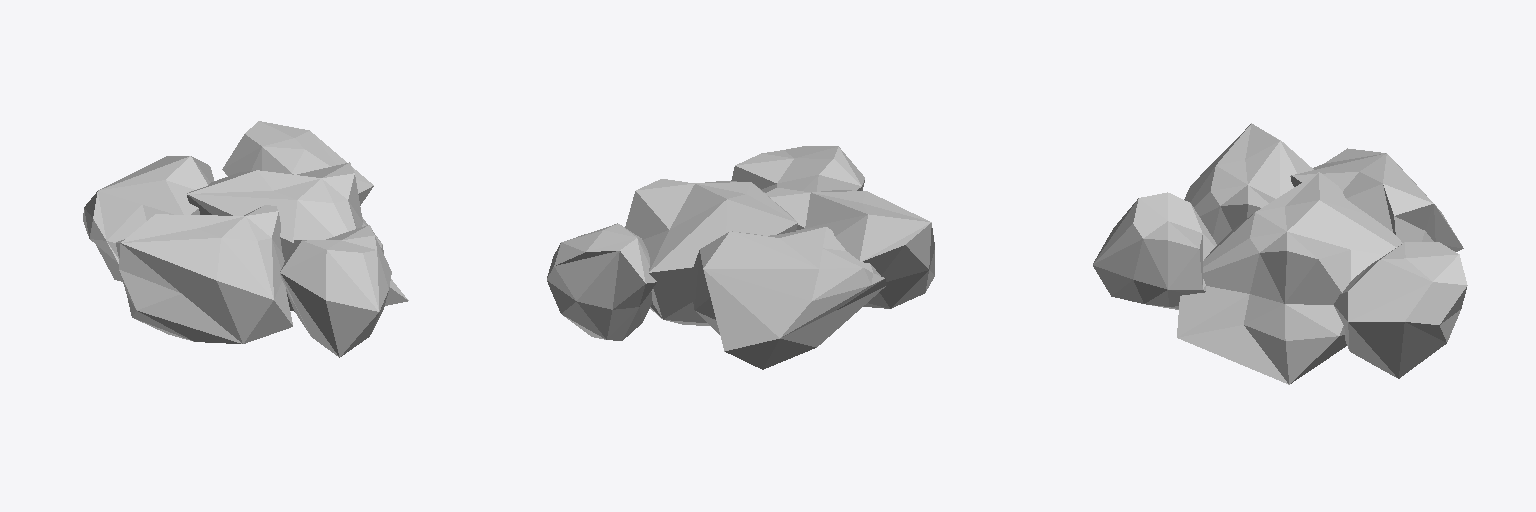
Rendered from cloud.obj.
3 views of the same model, side by side, from view 1: azimuth 30°, elevation 25°; view 2: azimuth 150°, elevation 25°; view 3: azimuth 270°, elevation 25° (orthographic).
Visible parts, largest first — view 1: Cube.001_Cube.002, Cube_Cube.001, Cube.002_Cube.003, Cube.004_Cube.005, Cube.003_Cube.004; view 2: Cube.004_Cube.005, Cube.002_Cube.003, Cube.001_Cube.002, Cube.003_Cube.004, Cube_Cube.001; view 3: Cube.002_Cube.003, Cube.003_Cube.004, Cube_Cube.001, Cube.001_Cube.002, Cube.004_Cube.005.
Boxes of the visible parts, x1=… form: Cube.001_Cube.002: x1=116, y1=205, x2=292, y2=343; Cube_Cube.001: x1=280, y1=225, x2=391, y2=357; Cube.002_Cube.003: x1=187, y1=162, x2=408, y2=311; Cube.004_Cube.005: x1=83, y1=156, x2=213, y2=281; Cube.003_Cube.004: x1=222, y1=121, x2=373, y2=205; Cube.004_Cube.005: x1=689, y1=227, x2=886, y2=369; Cube.002_Cube.003: x1=625, y1=179, x2=797, y2=325; Cube.001_Cube.002: x1=765, y1=188, x2=934, y2=308; Cube.003_Cube.004: x1=547, y1=223, x2=656, y2=340; Cube_Cube.001: x1=731, y1=146, x2=864, y2=192; Cube.002_Cube.003: x1=1177, y1=172, x2=1402, y2=384; Cube.003_Cube.004: x1=1334, y1=242, x2=1467, y2=378; Cube_Cube.001: x1=1093, y1=192, x2=1216, y2=309; Cube.001_Cube.002: x1=1184, y1=123, x2=1313, y2=244; Cube.004_Cube.005: x1=1290, y1=148, x2=1463, y2=251.
Size of the model in its own units: 10.09 by 4.19 by 10.78.